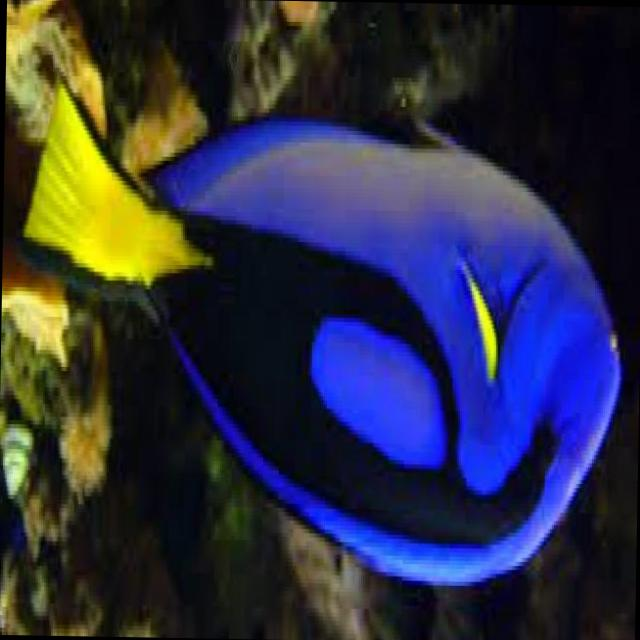BlueTang: (6, 38, 638, 616)
